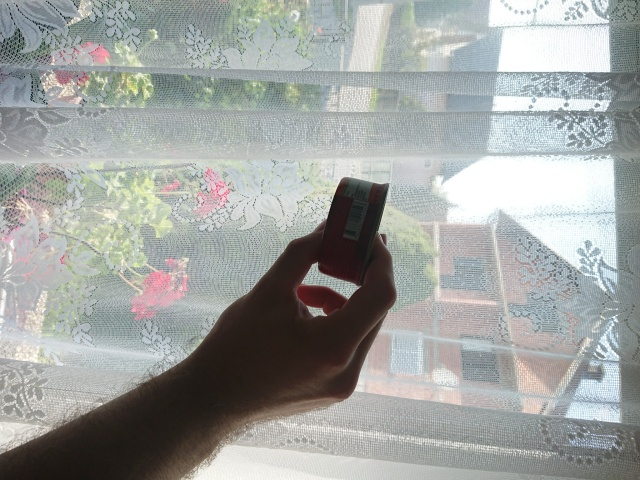Gavrilovic Pork Liver Pate 100g: (315, 173, 393, 289)
